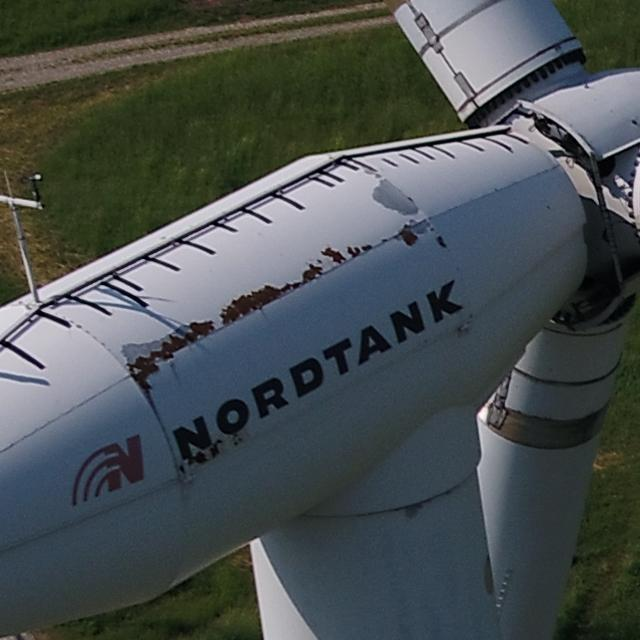damage: (118, 313, 218, 383), (218, 275, 306, 330), (129, 377, 171, 434), (300, 258, 328, 283), (319, 244, 349, 266), (394, 223, 420, 248), (344, 241, 375, 258), (190, 450, 209, 466), (211, 436, 224, 458), (230, 430, 250, 443), (433, 232, 448, 248)
